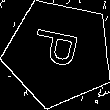P_E: (30, 30, 88, 76)
